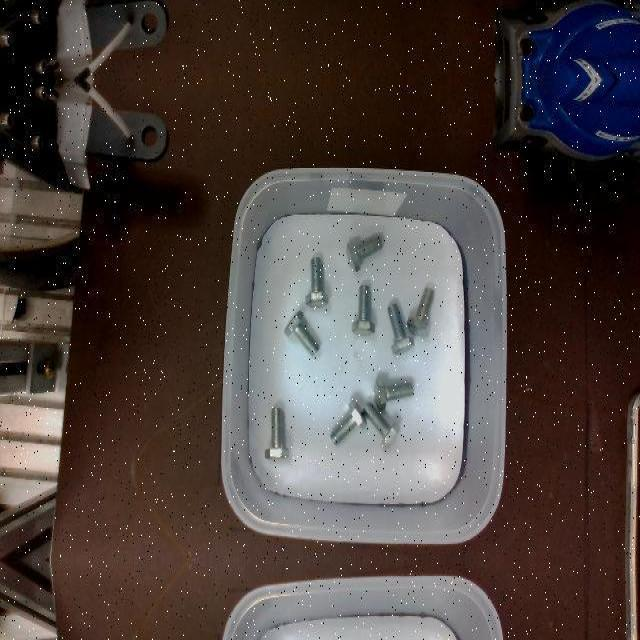screw: (363, 401, 400, 451), (330, 400, 367, 446), (283, 309, 319, 355), (387, 302, 415, 354), (406, 287, 434, 337), (373, 379, 413, 411), (346, 236, 383, 270), (264, 407, 288, 457), (352, 284, 375, 334), (305, 256, 328, 306)
